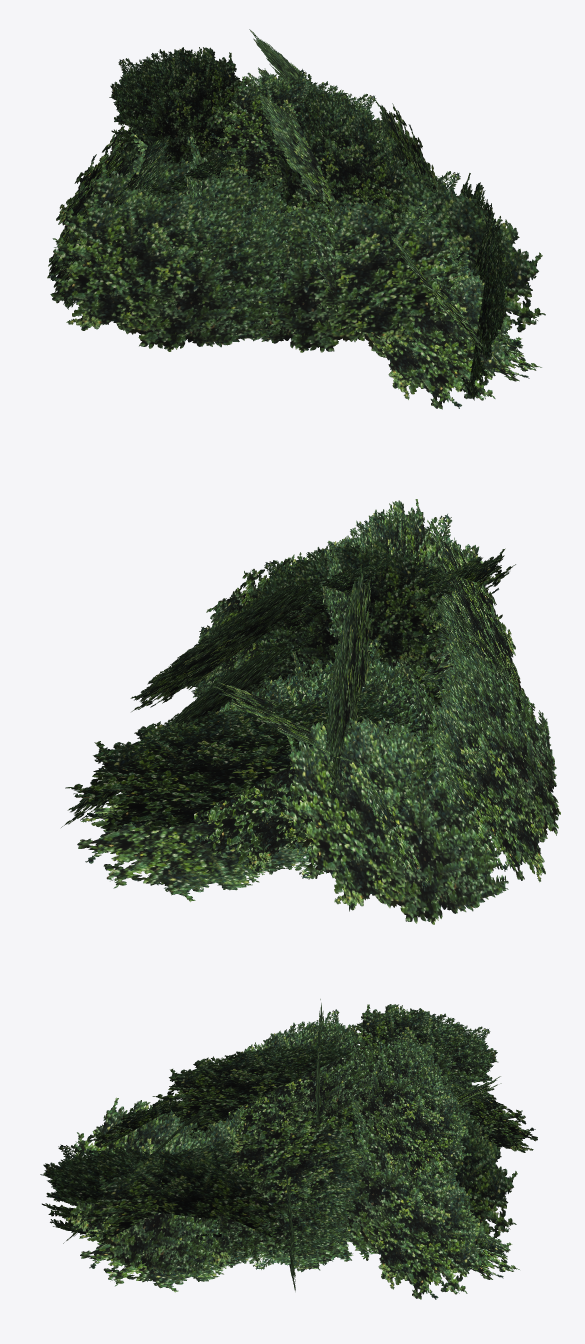
File: bush1.fbx
The picture shows the model from 3 angles, top to bottom: view 1: azimuth 30°, elevation 25°; view 2: azimuth 150°, elevation 25°; view 3: azimuth 270°, elevation 25°; orthographic projection. The views are drawn at different scales.
Parts seen in each view (by area): view 1: MushBig; view 2: MushBig; view 3: MushBig.
Boxes of the visible parts, x1,y1,x2,y2 form: MushBig: (47, 29, 545, 409); MushBig: (61, 499, 560, 924); MushBig: (40, 999, 537, 1299).
Bounding box in the file's own units: 859 × 586 × 1169.
1 material, 1 textured.
